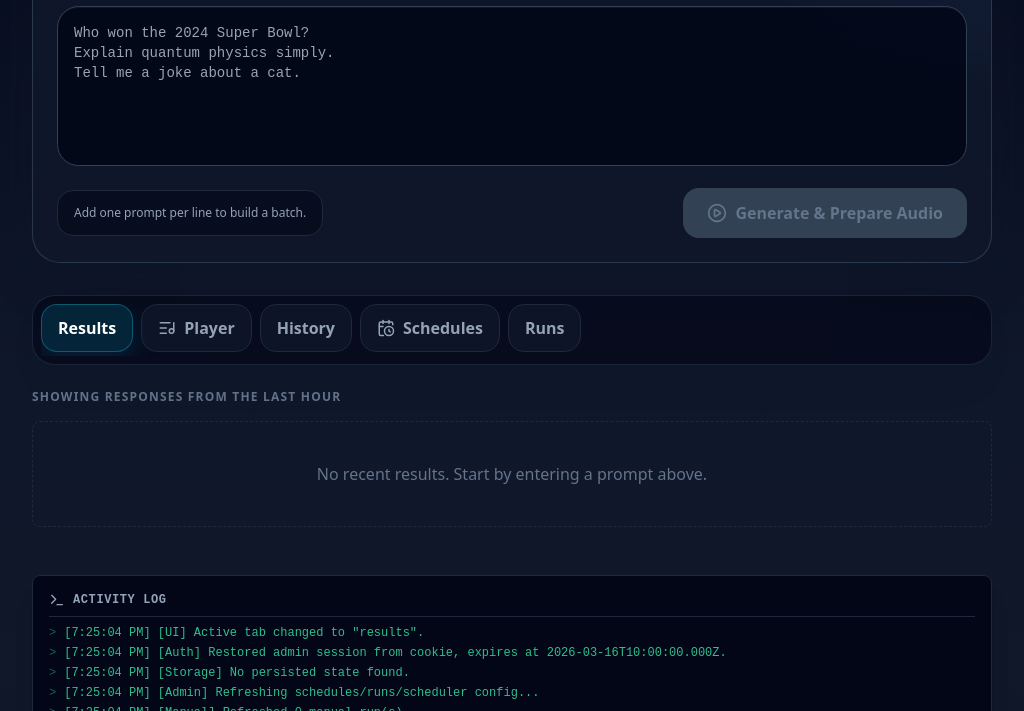
Test: App button regression coverage › shows runs delete controls, opens inline confirmation, and deletes a single run
The image size is (1024, 711).
(page scrolled)
Click the button "runs" at (545, 328), box [508,304,581,352]
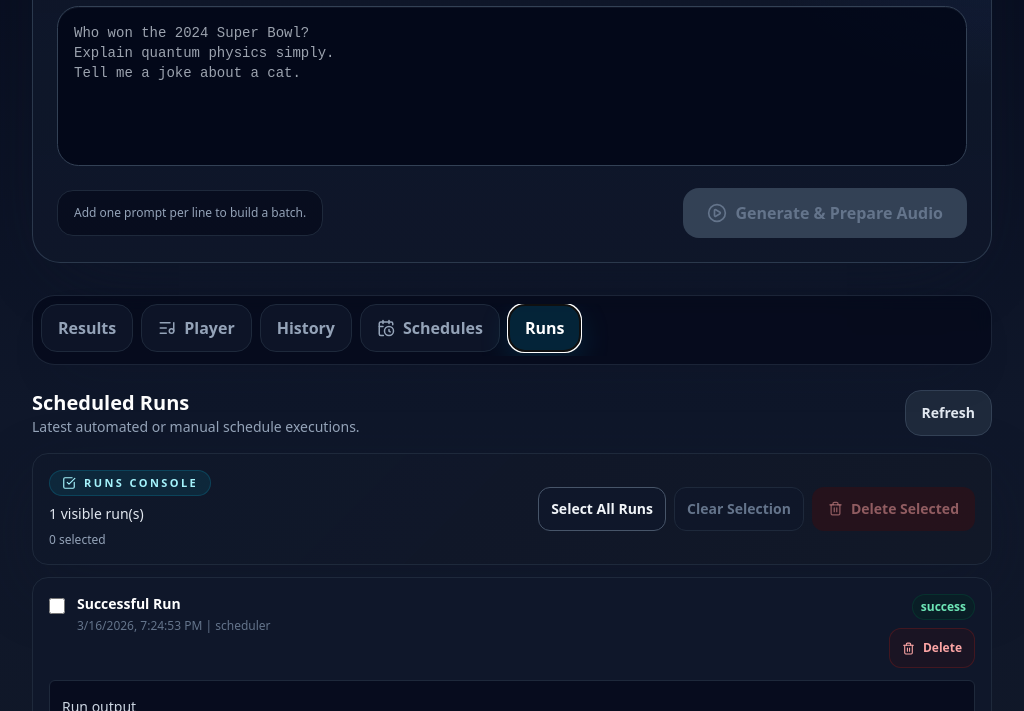
Expected: the heading "Scheduled Runs" is shown, [32,388,189,416]
Expected: the button "Delete Selected" is disabled, [812,487,975,531]
Expected: the button named "delete run delete me from runs" is shown
Click the button named "delete run delete me from runs" at (932, 648), box [889,628,975,668]
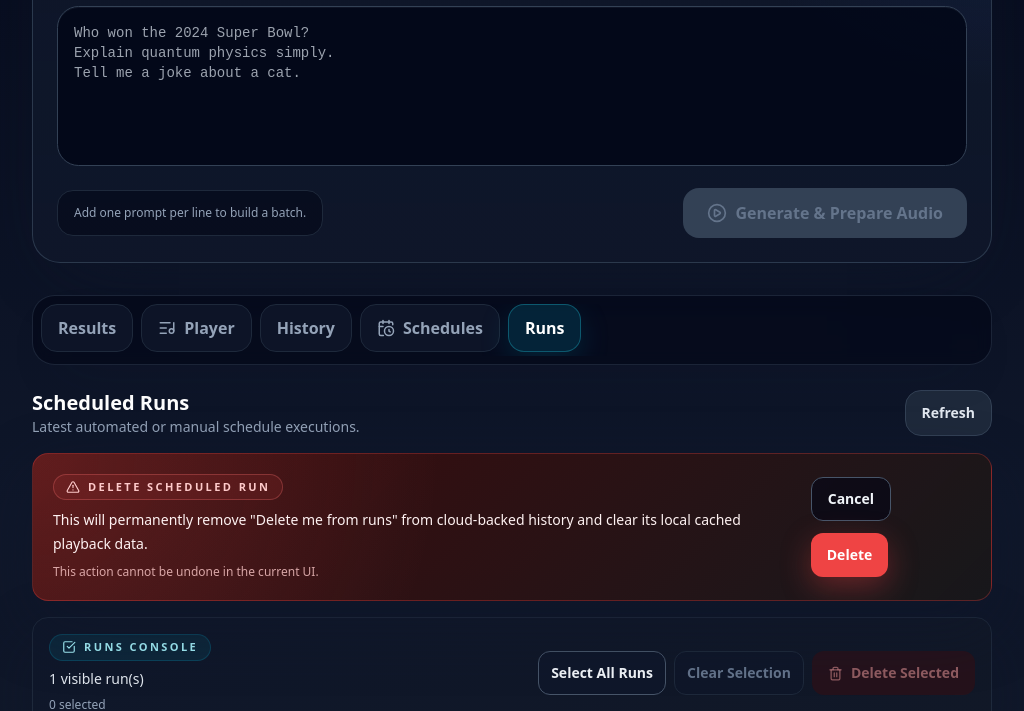
Expected: the text "Delete Scheduled Run" is shown, [53,474,284,500]
Expected: the text "Delete me from runs" is shown, [53,510,741,553]
Click the button "Delete" at (850, 555), box [811,533,888,577]
(page scrolled)
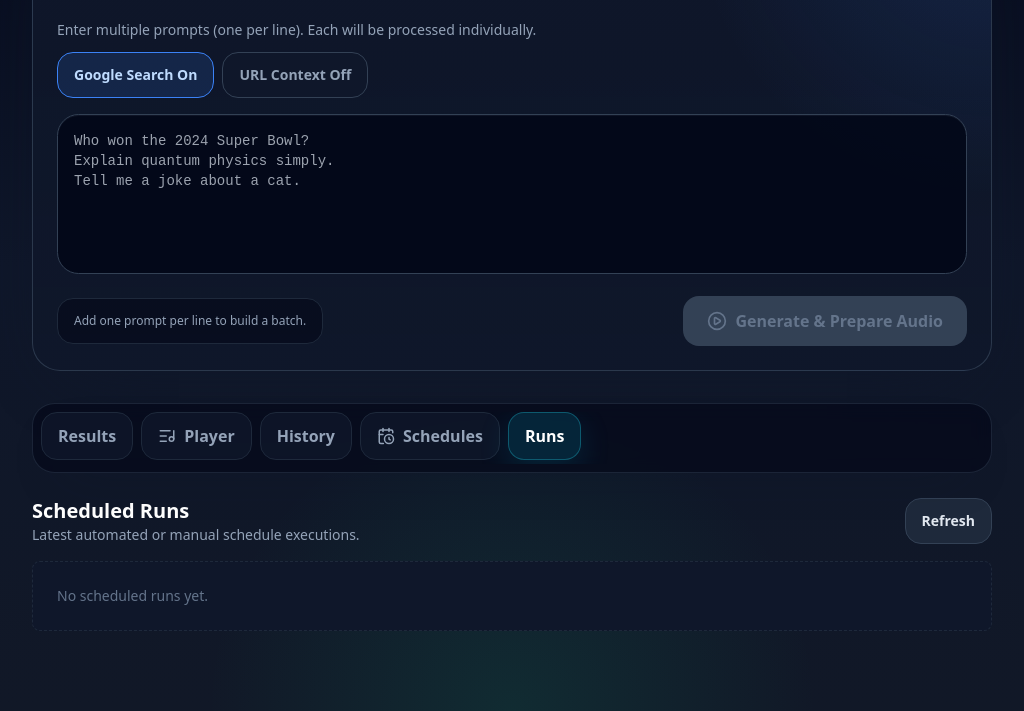
Expected: the text "Delete me from runs" is gone
